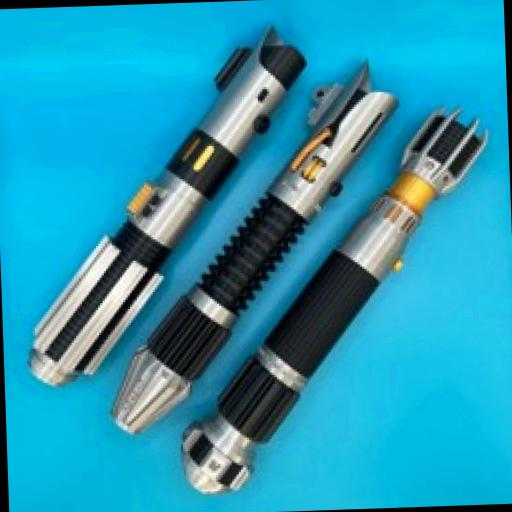lightsaber: (166, 107, 498, 494), (101, 60, 413, 435), (14, 24, 316, 386)
